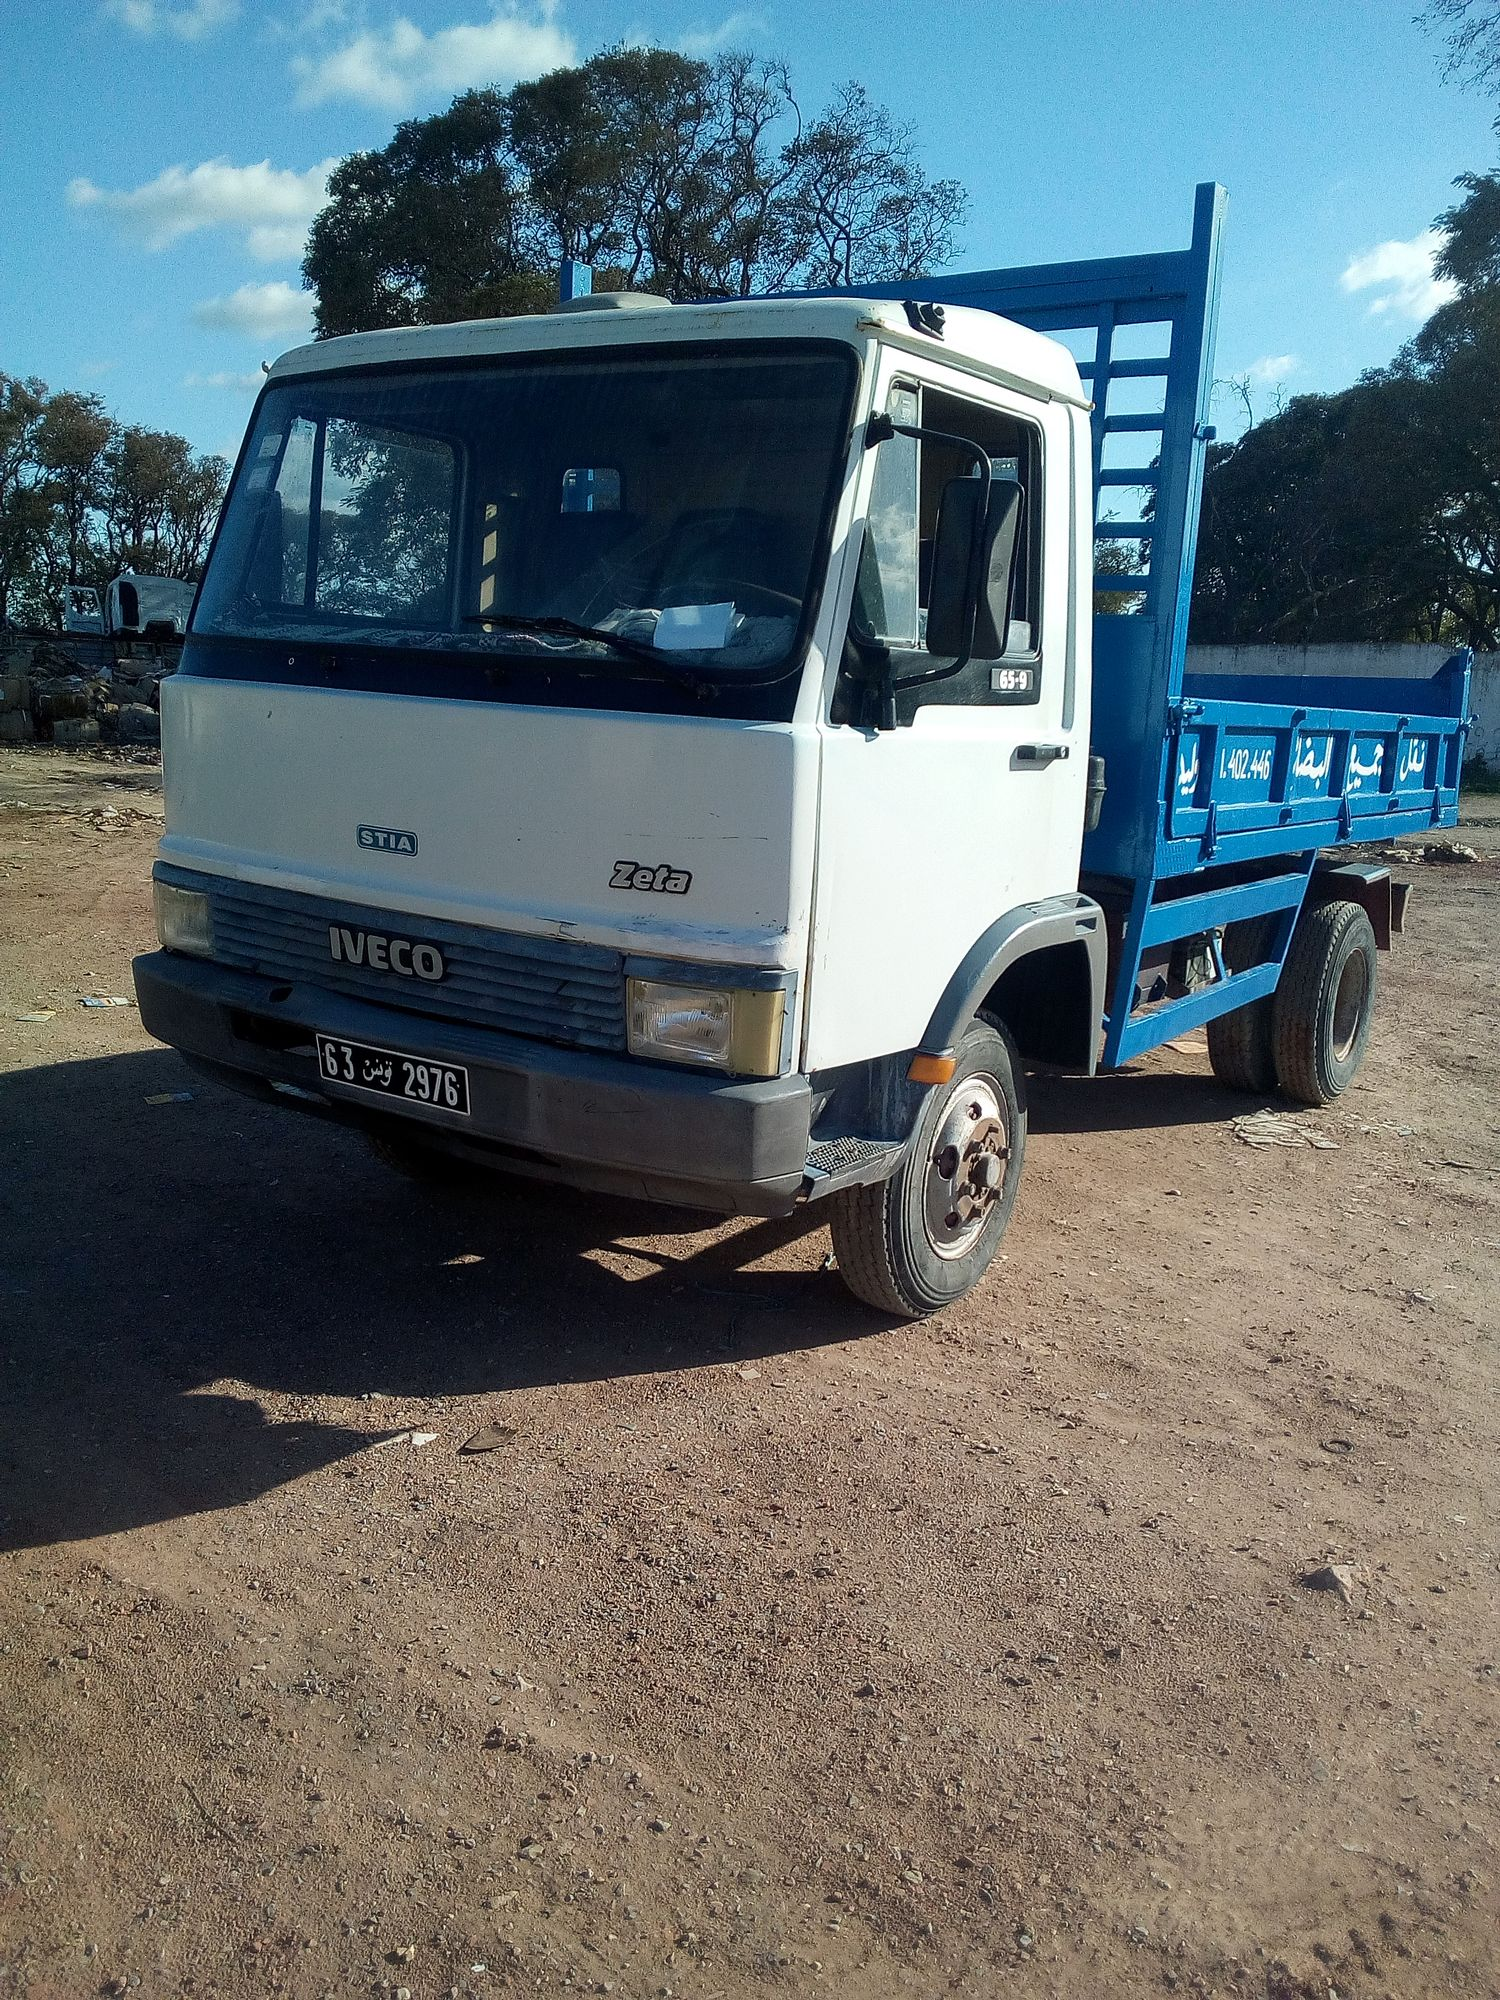LP: (308, 1027, 476, 1117)
